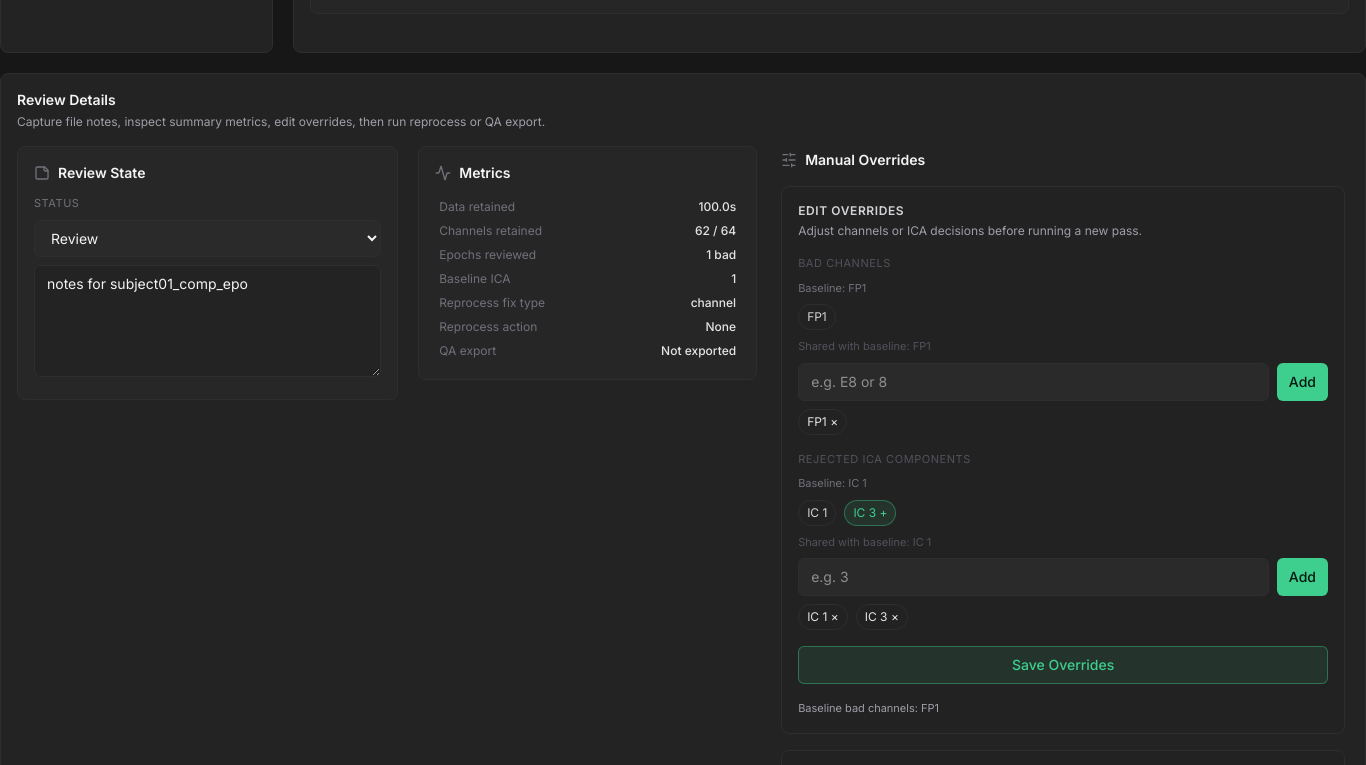
ExcludePage › normalizes numeric channel entries to E-prefixed labels
(page scrolled)
Expected: the button "FP1 ×" is shown, [798,408,847,434]
In the field with placeholder "e.g. E8 or 8": [1033, 382] box [798,362,1269,400], type "8"
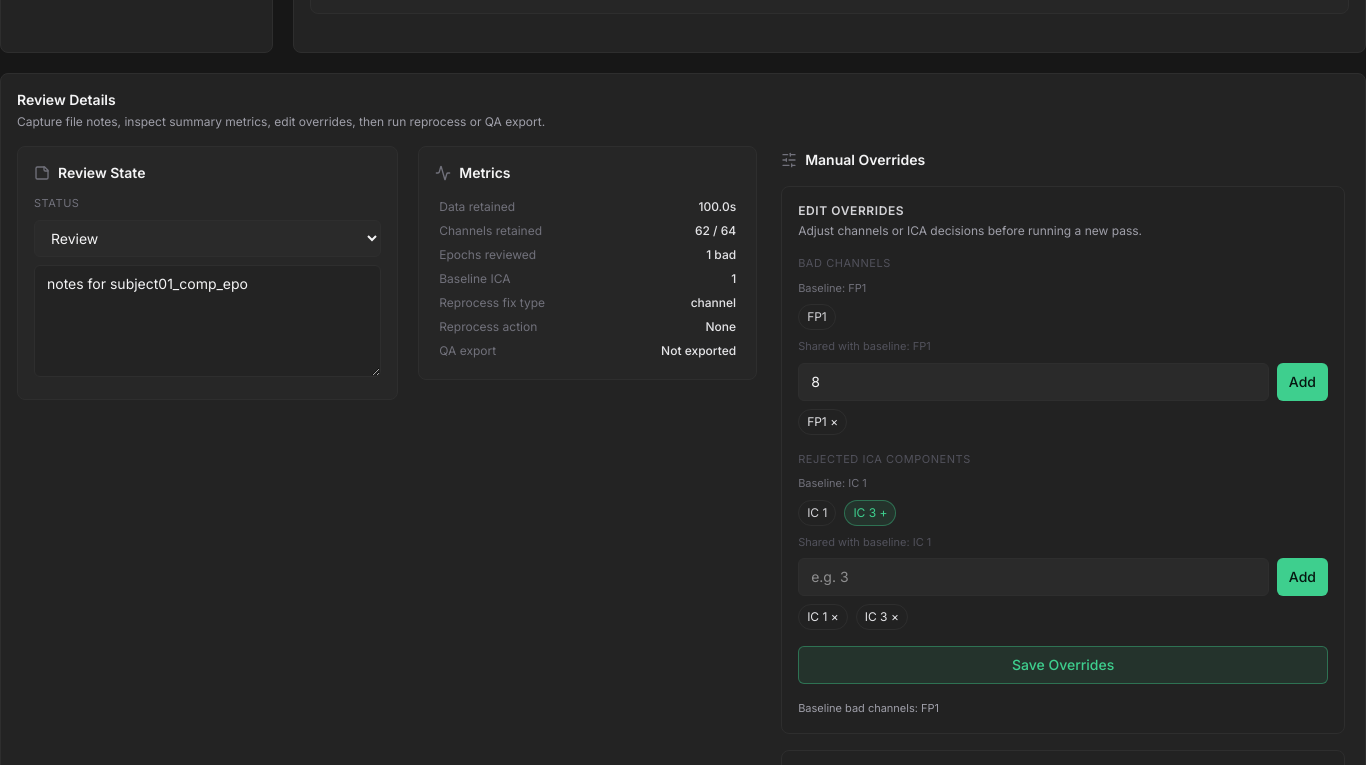
Click the 1st button "Add": [1302, 382] box [1277,362,1328,400]
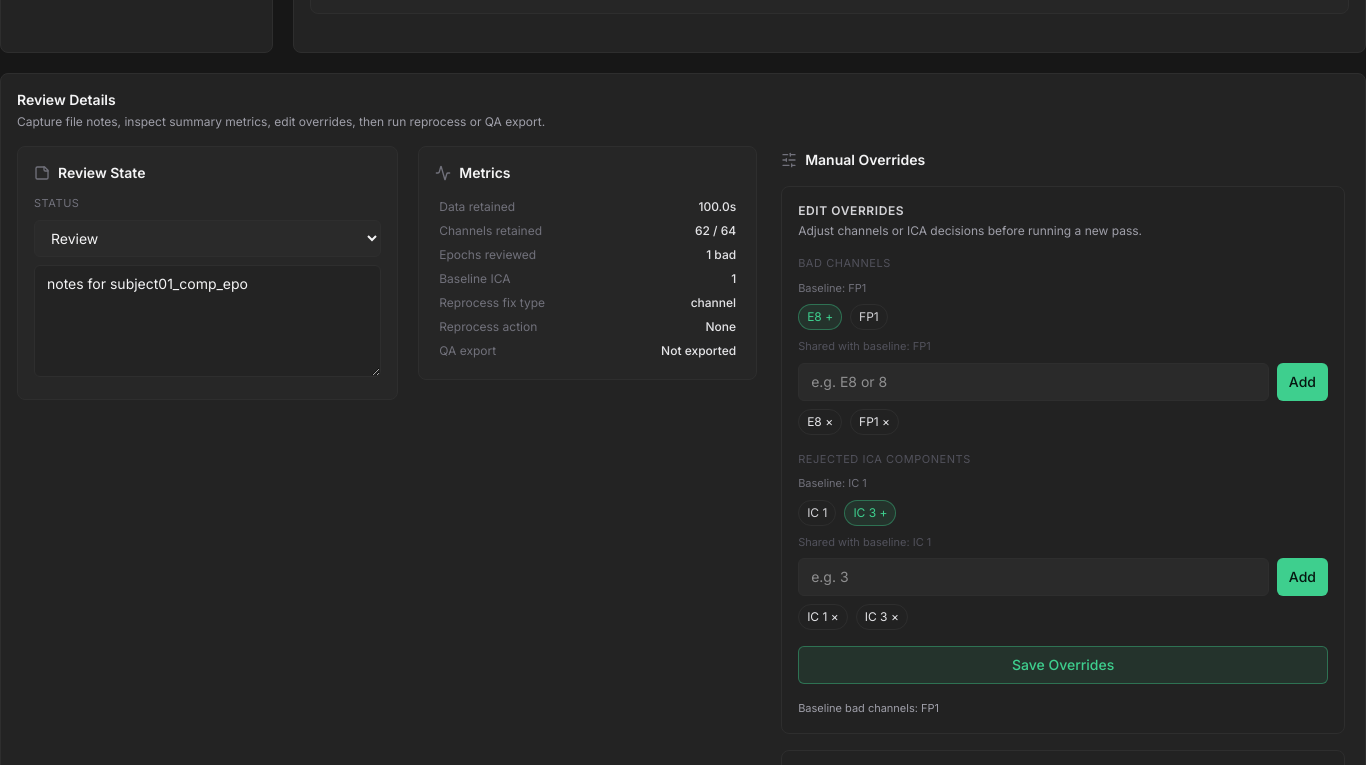
Result: the button "E8 ×" is shown at [798,408,842,434]
